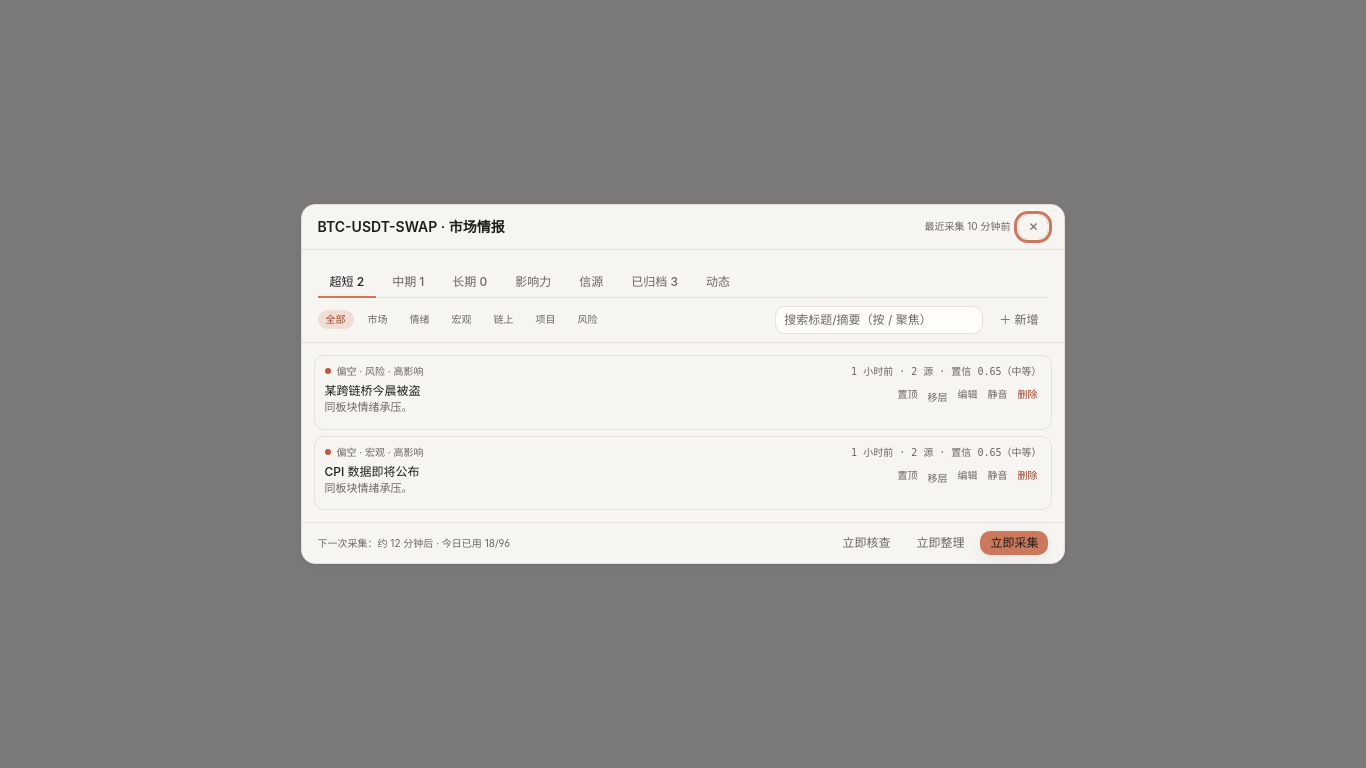
it: IntelModal › 搜索无结果 ⇒ 给清除筛选
Expected: the text "某跨链桥今晨被盗" is shown, [324,383,420,398]
In the field named "搜索情报": point(879, 320) [775,306,983,334], type "不存在的词"
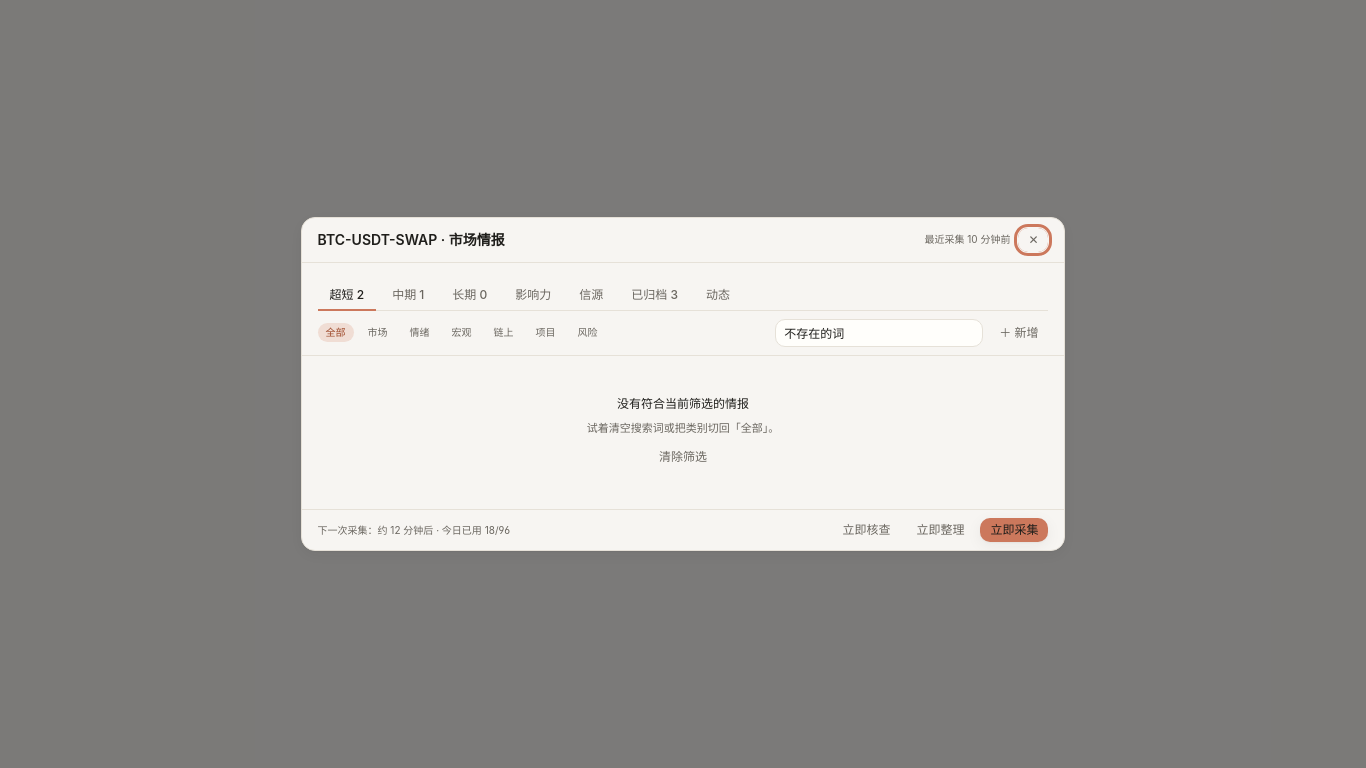
Now the element with test id "intel-empty-no-match" is shown, box [587,396,779,470]
Click the button "清除筛选": point(683, 457) [649,445,717,469]
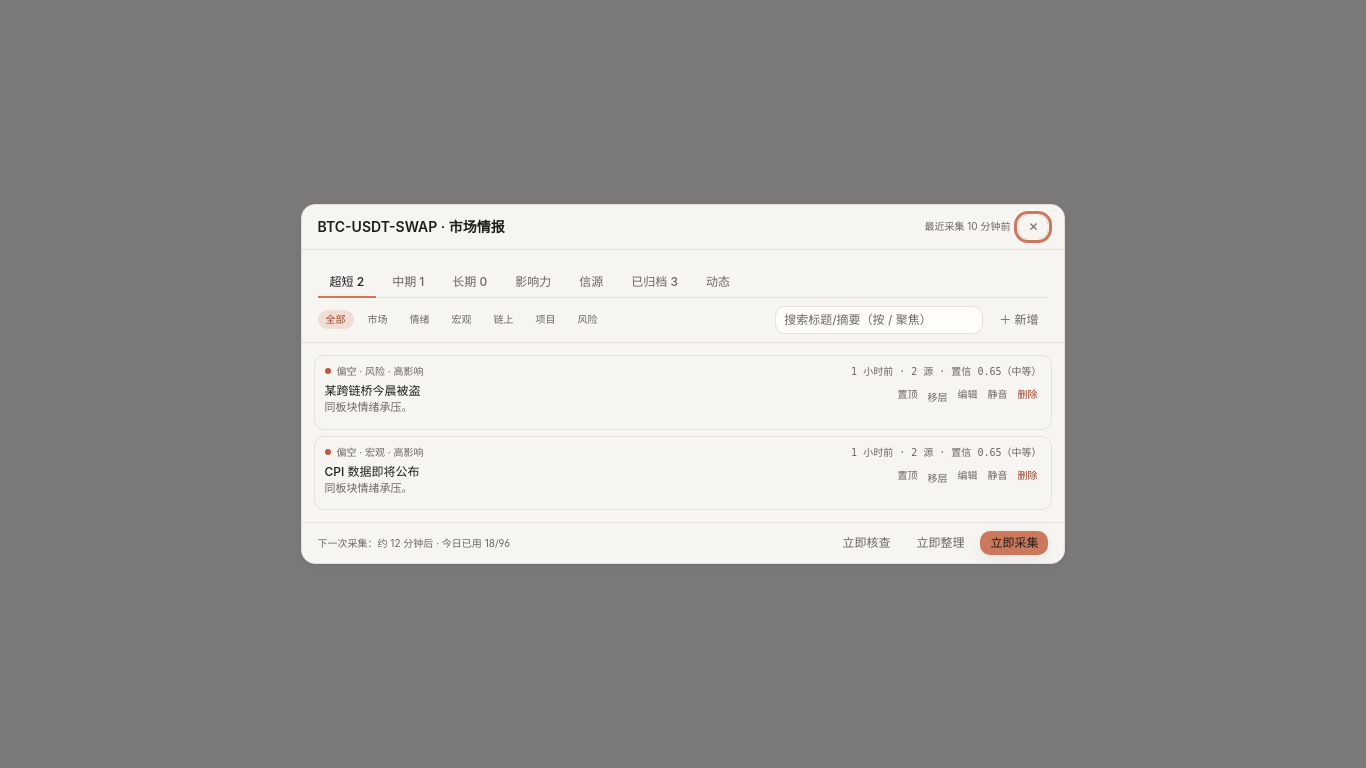
Now the text "某跨链桥今晨被盗" is shown, box [324,383,420,398]
